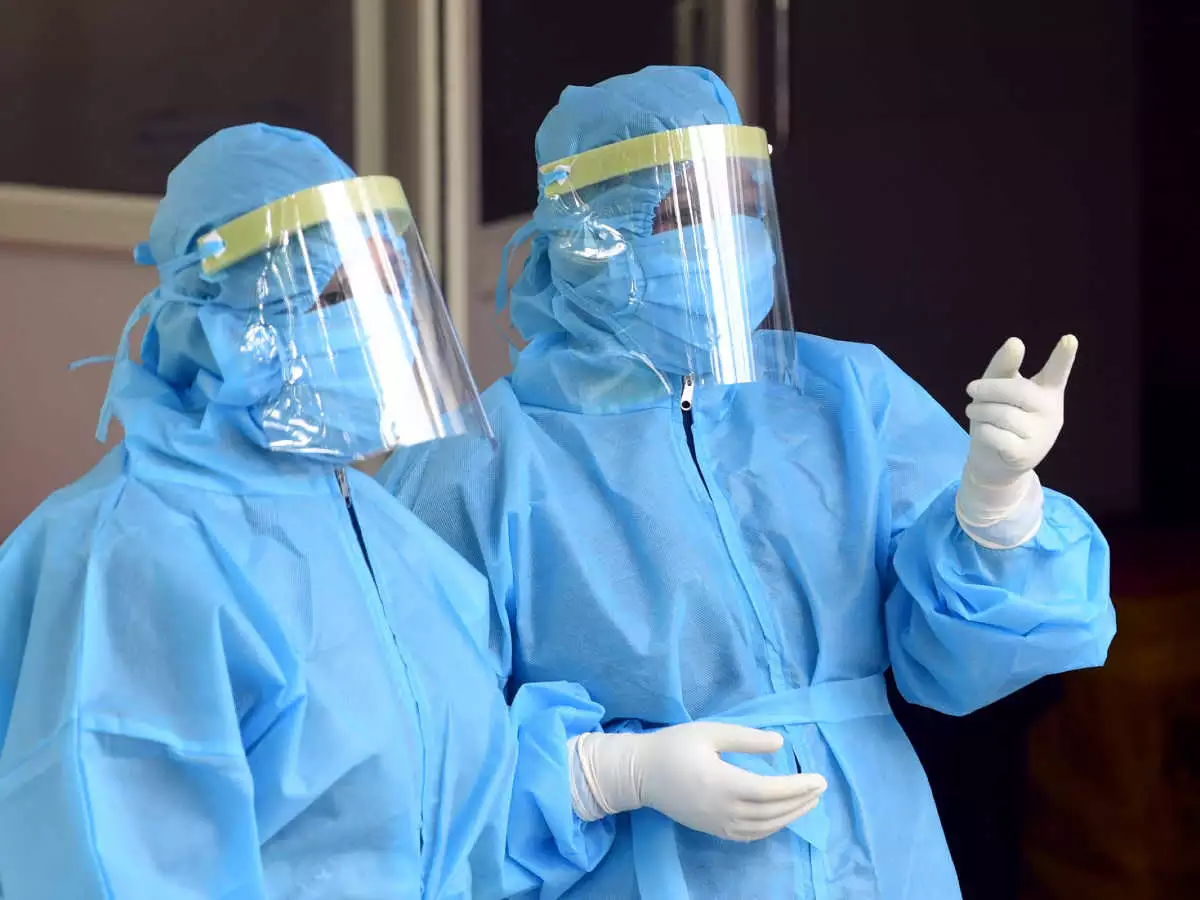Gloves: (492, 330, 1092, 900), (1, 415, 486, 900), (562, 715, 827, 846), (950, 328, 1080, 556)
with_mask: (624, 174, 787, 381)
